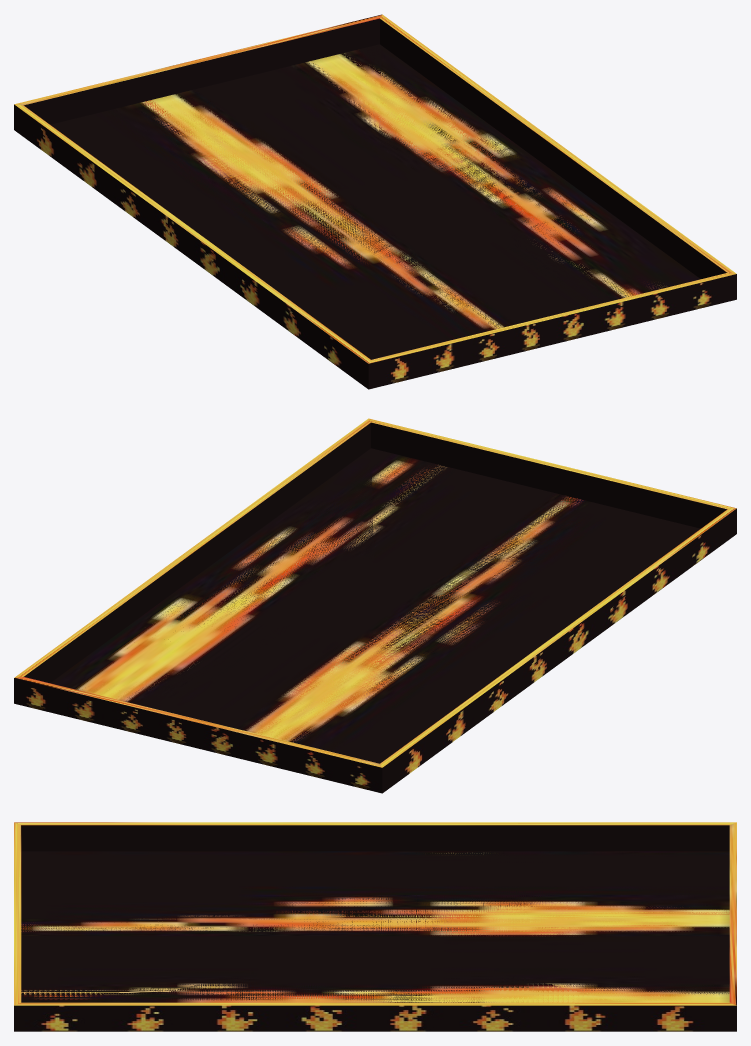
The model's file is tri_fireWalls.obj.
The picture shows the model from 3 angles, top to bottom: view 1: azimuth 30°, elevation 25°; view 2: azimuth 150°, elevation 25°; view 3: azimuth 270°, elevation 25°; orthographic projection.
Visible parts, largest first — view 1: Cube; view 2: Cube; view 3: Cube.
Boxes of the visible parts, bbox=[...] form: Cube: bbox=[14, 14, 736, 389]; Cube: bbox=[14, 418, 736, 793]; Cube: bbox=[14, 822, 736, 1031].
Bounding box in the file's own units: 6 × 0.4 × 10.
